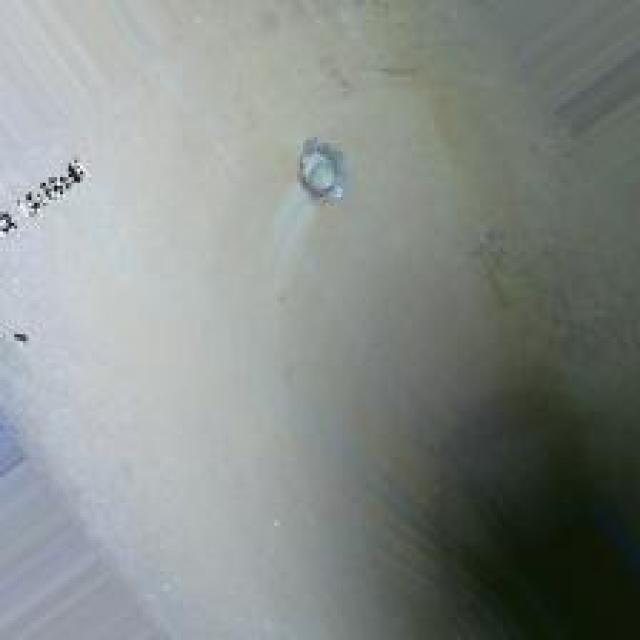ferrule: (280, 134, 351, 200)
